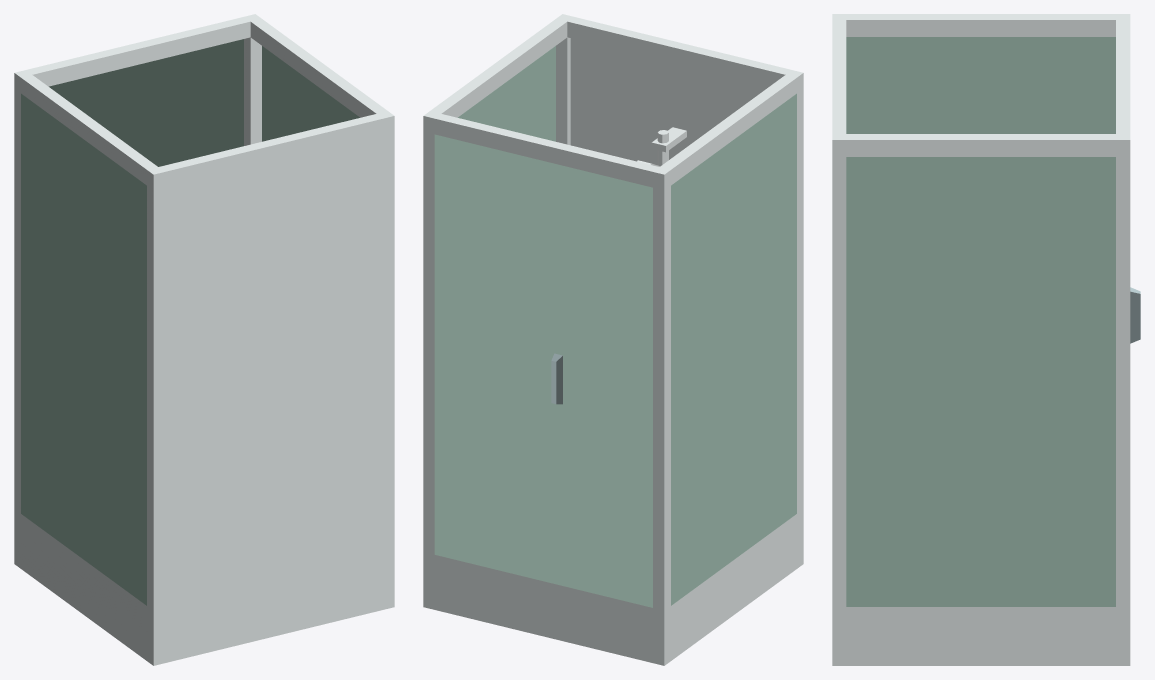
File: shower.obj
3 views of the same model, side by side, from view 1: azimuth 30°, elevation 25°; view 2: azimuth 150°, elevation 25°; view 3: azimuth 270°, elevation 25° (orthographic). The views are drawn at different scales.
Parts seen in each view (by area): view 1: shower, doorLeft, doorRight; view 2: shower, doorLeft, doorRight; view 3: shower, doorRight.
Boxes of the visible parts, x1,y1,x2,y2 form: shower: [14, 14, 394, 665]; doorLeft: [135, 39, 243, 166]; doorRight: [49, 65, 134, 149]; shower: [423, 14, 803, 665]; doorLeft: [434, 134, 543, 581]; doorRight: [544, 161, 652, 607]; shower: [832, 14, 1130, 665]; doorRight: [1130, 287, 1140, 343].
Size of the model in its own units: 0.5618 by 1.09 by 0.5818.
